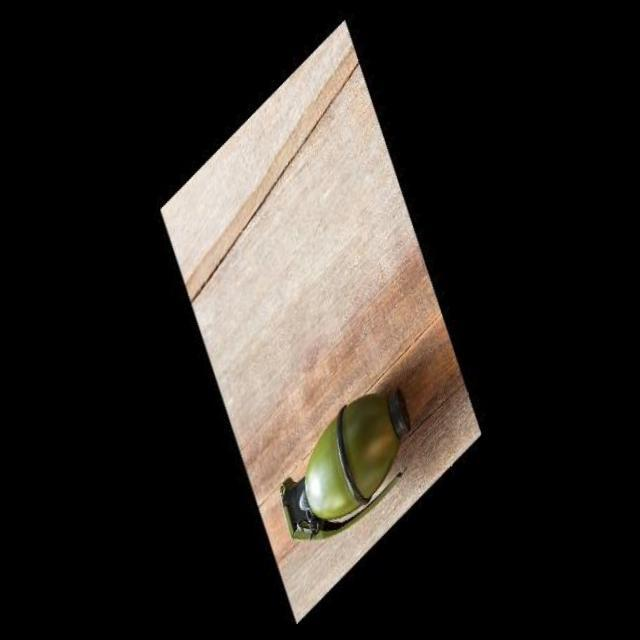grenade: (262, 357, 428, 565)
